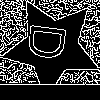D: (27, 21, 76, 63)
